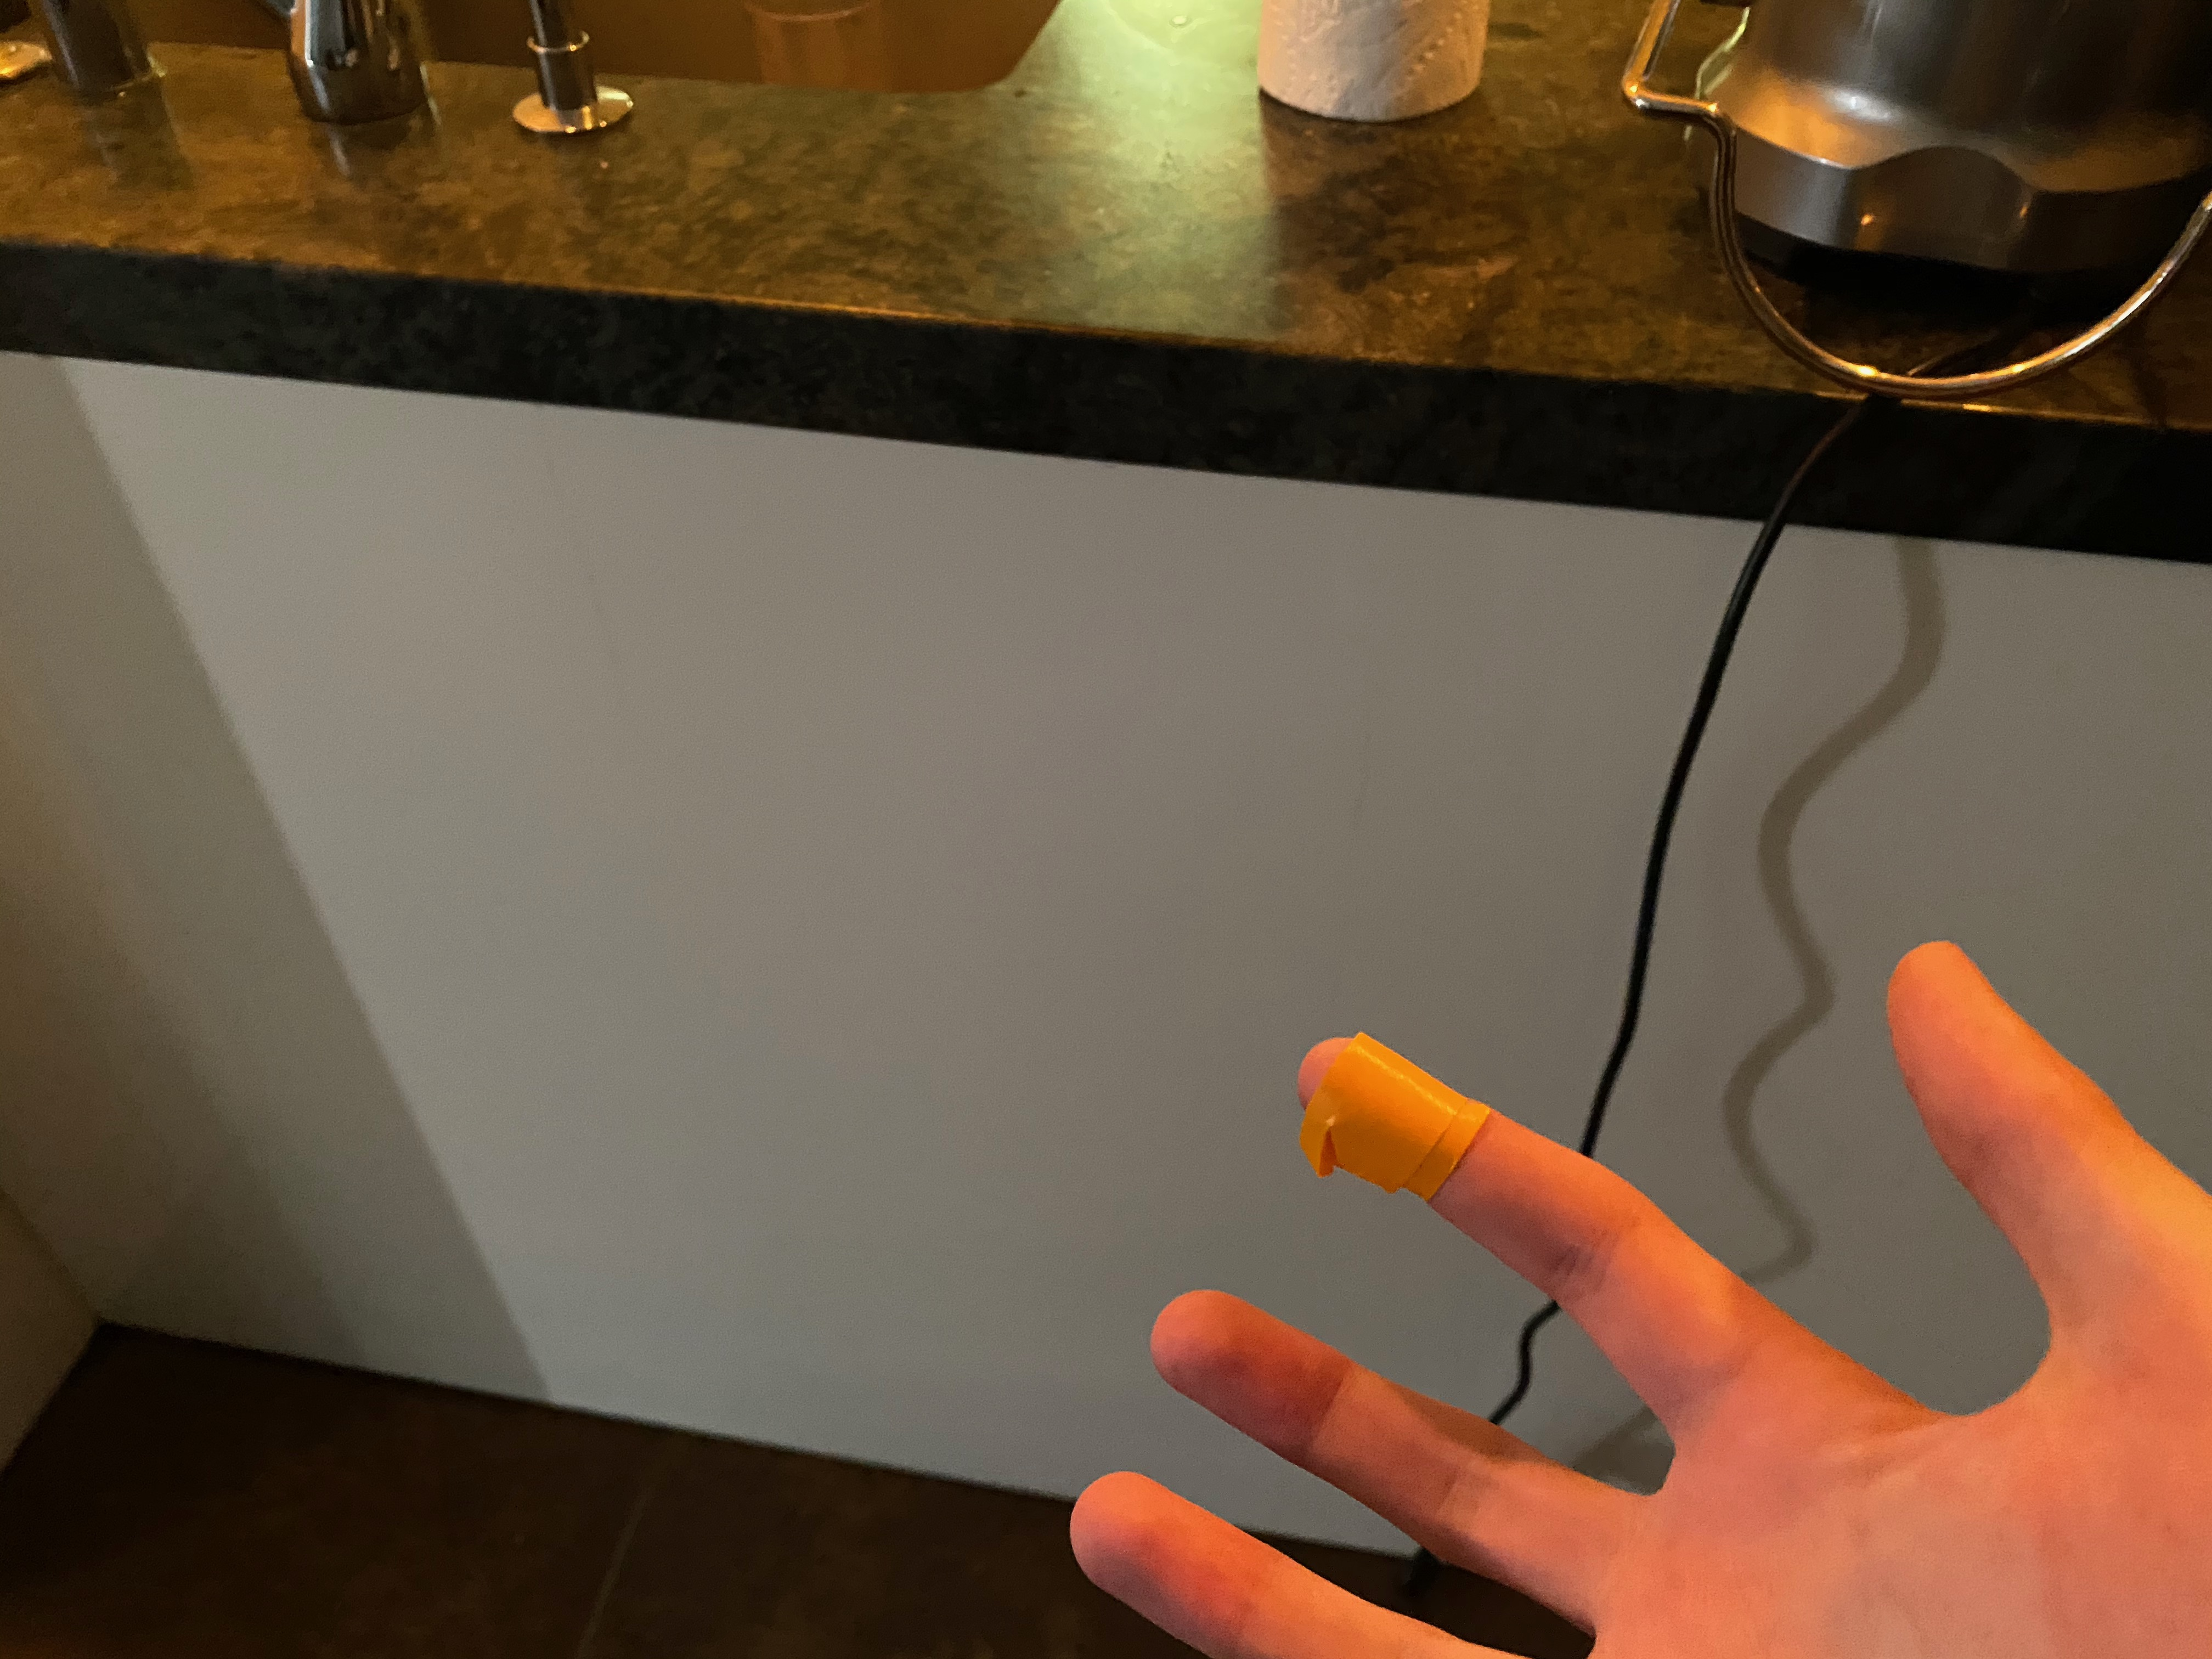fingertip: (1268, 1014, 1500, 1216)
